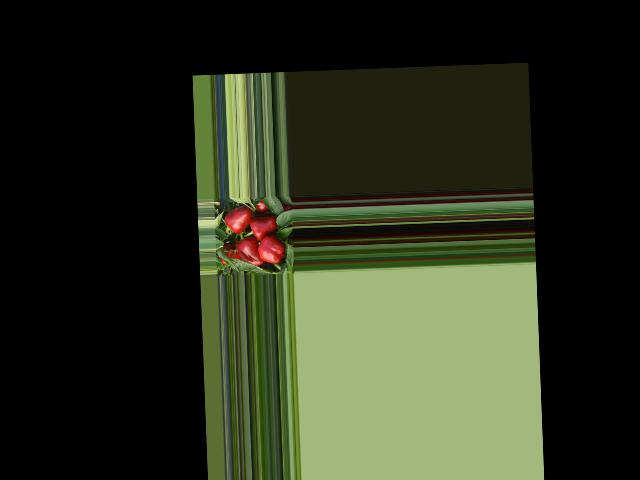bell_pepper: (257, 228, 285, 266)
